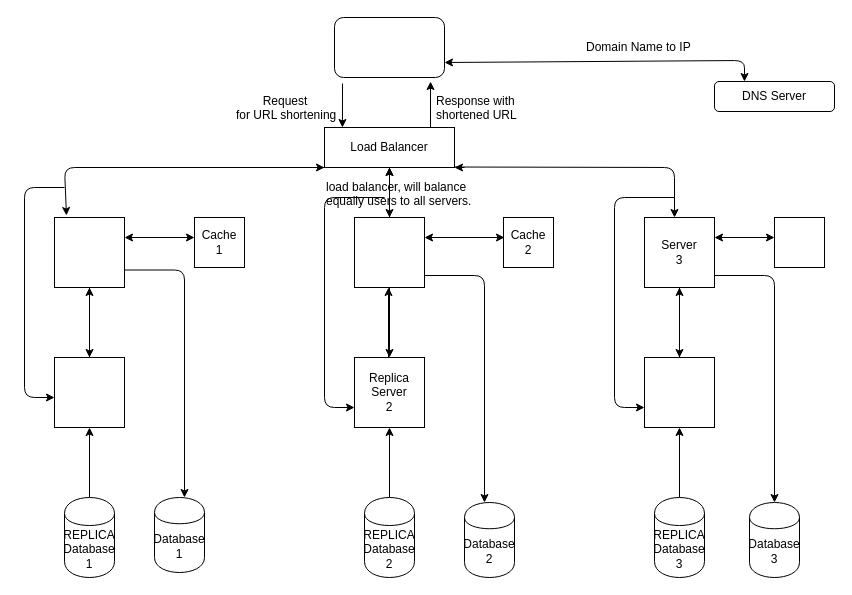
The diagram is 852 pixels wide and 595 high, and some of its shapes have lost their labels. The shapes that lost their labels are listed below. From the top down, each one's box as (x1, y1, x2, y2) in pixels, then its label:
(334, 16, 444, 78): User
(54, 216, 124, 288): Server 1
(354, 216, 424, 288): Server 2
(774, 216, 824, 268): Cache 3
(54, 356, 124, 428): Replica Server 1
(644, 356, 714, 428): Replica Server 3
